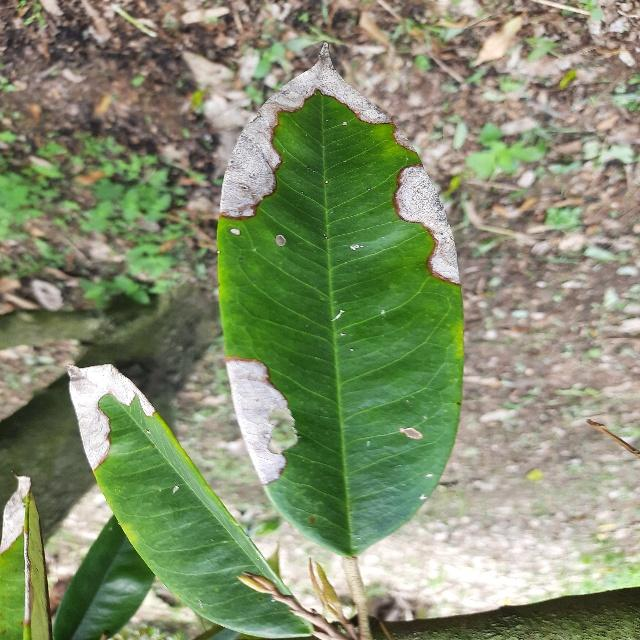Leaf Blight: (213, 51, 470, 563), (61, 347, 318, 640)
